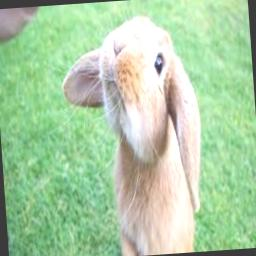rabbit: (62, 16, 199, 255)
